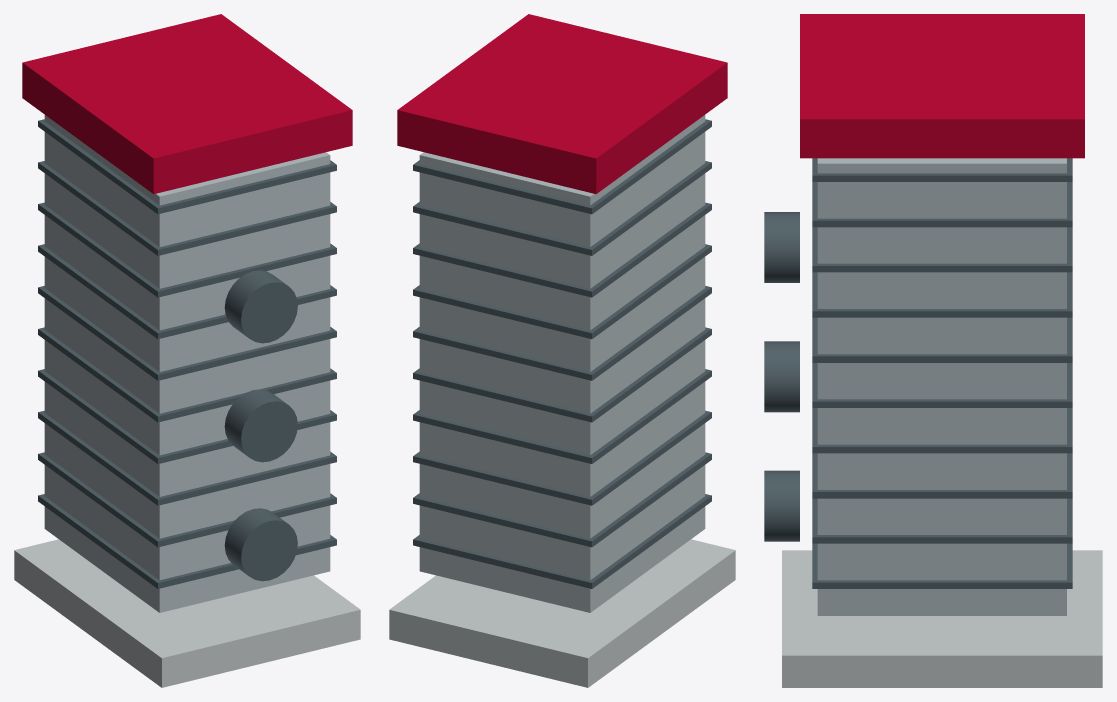
File: dryer.glb
3 views of the same model, side by side, from view 1: azimuth 30°, elevation 25°; view 2: azimuth 150°, elevation 25°; view 3: azimuth 270°, elevation 25° (orthographic). The views are drawn at different scales.
Visible parts, largest first — view 1: dryer; view 2: dryer; view 3: dryer.
Boxes of the visible parts, x1,y1,x2,y2 form: dryer: (14, 14, 360, 687); dryer: (389, 14, 735, 687); dryer: (764, 14, 1102, 687).
Size of the model in its own units: 7 by 17.6 by 9.5.
